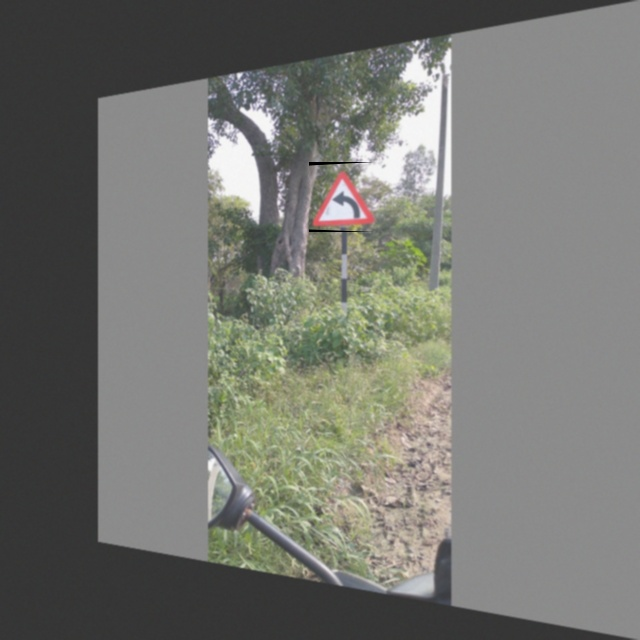Left_Hand_Curve: (309, 162, 375, 232)
